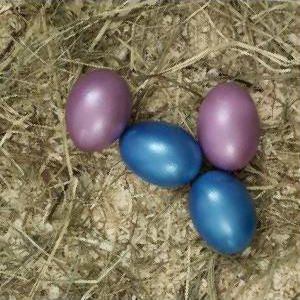egg: (188, 172, 257, 255), (119, 121, 204, 188), (198, 83, 261, 172), (64, 69, 132, 151)
